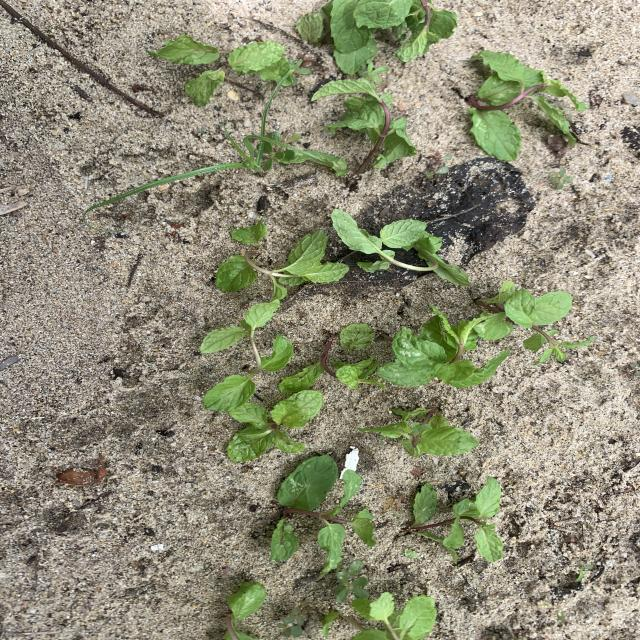crop: (467, 50, 586, 160), (271, 455, 374, 570), (299, 1, 455, 73), (147, 35, 302, 106), (311, 76, 415, 180), (331, 209, 469, 285), (215, 221, 349, 299), (200, 299, 293, 411), (377, 309, 509, 387), (408, 477, 503, 560), (279, 324, 383, 395), (228, 390, 320, 461), (473, 281, 572, 340), (359, 408, 477, 455), (352, 589, 435, 639), (224, 582, 265, 639), (526, 329, 583, 360)
weed: (90, 84, 280, 210), (261, 132, 305, 170), (335, 560, 367, 601), (279, 608, 306, 635), (549, 168, 571, 189), (572, 565, 591, 583), (427, 166, 449, 179), (628, 363, 639, 375), (405, 550, 418, 558)
